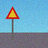sign: (6, 6, 20, 39)
